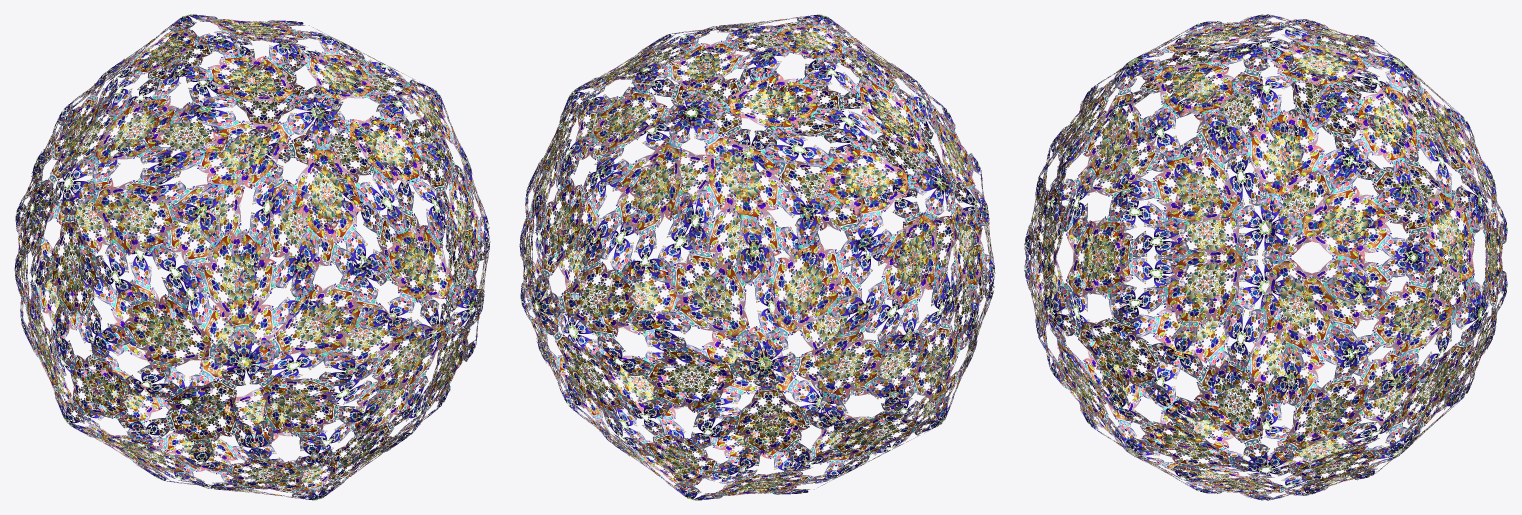
Rendered from PentagonalHexecontahedron5.obj.
The picture shows the model from 3 angles, left to right: view 1: azimuth 30°, elevation 25°; view 2: azimuth 150°, elevation 25°; view 3: azimuth 270°, elevation 25°; orthographic projection.
Bounding box in the file's own units: 4.19 × 4.19 × 4.19.
1 material, 1 textured.
